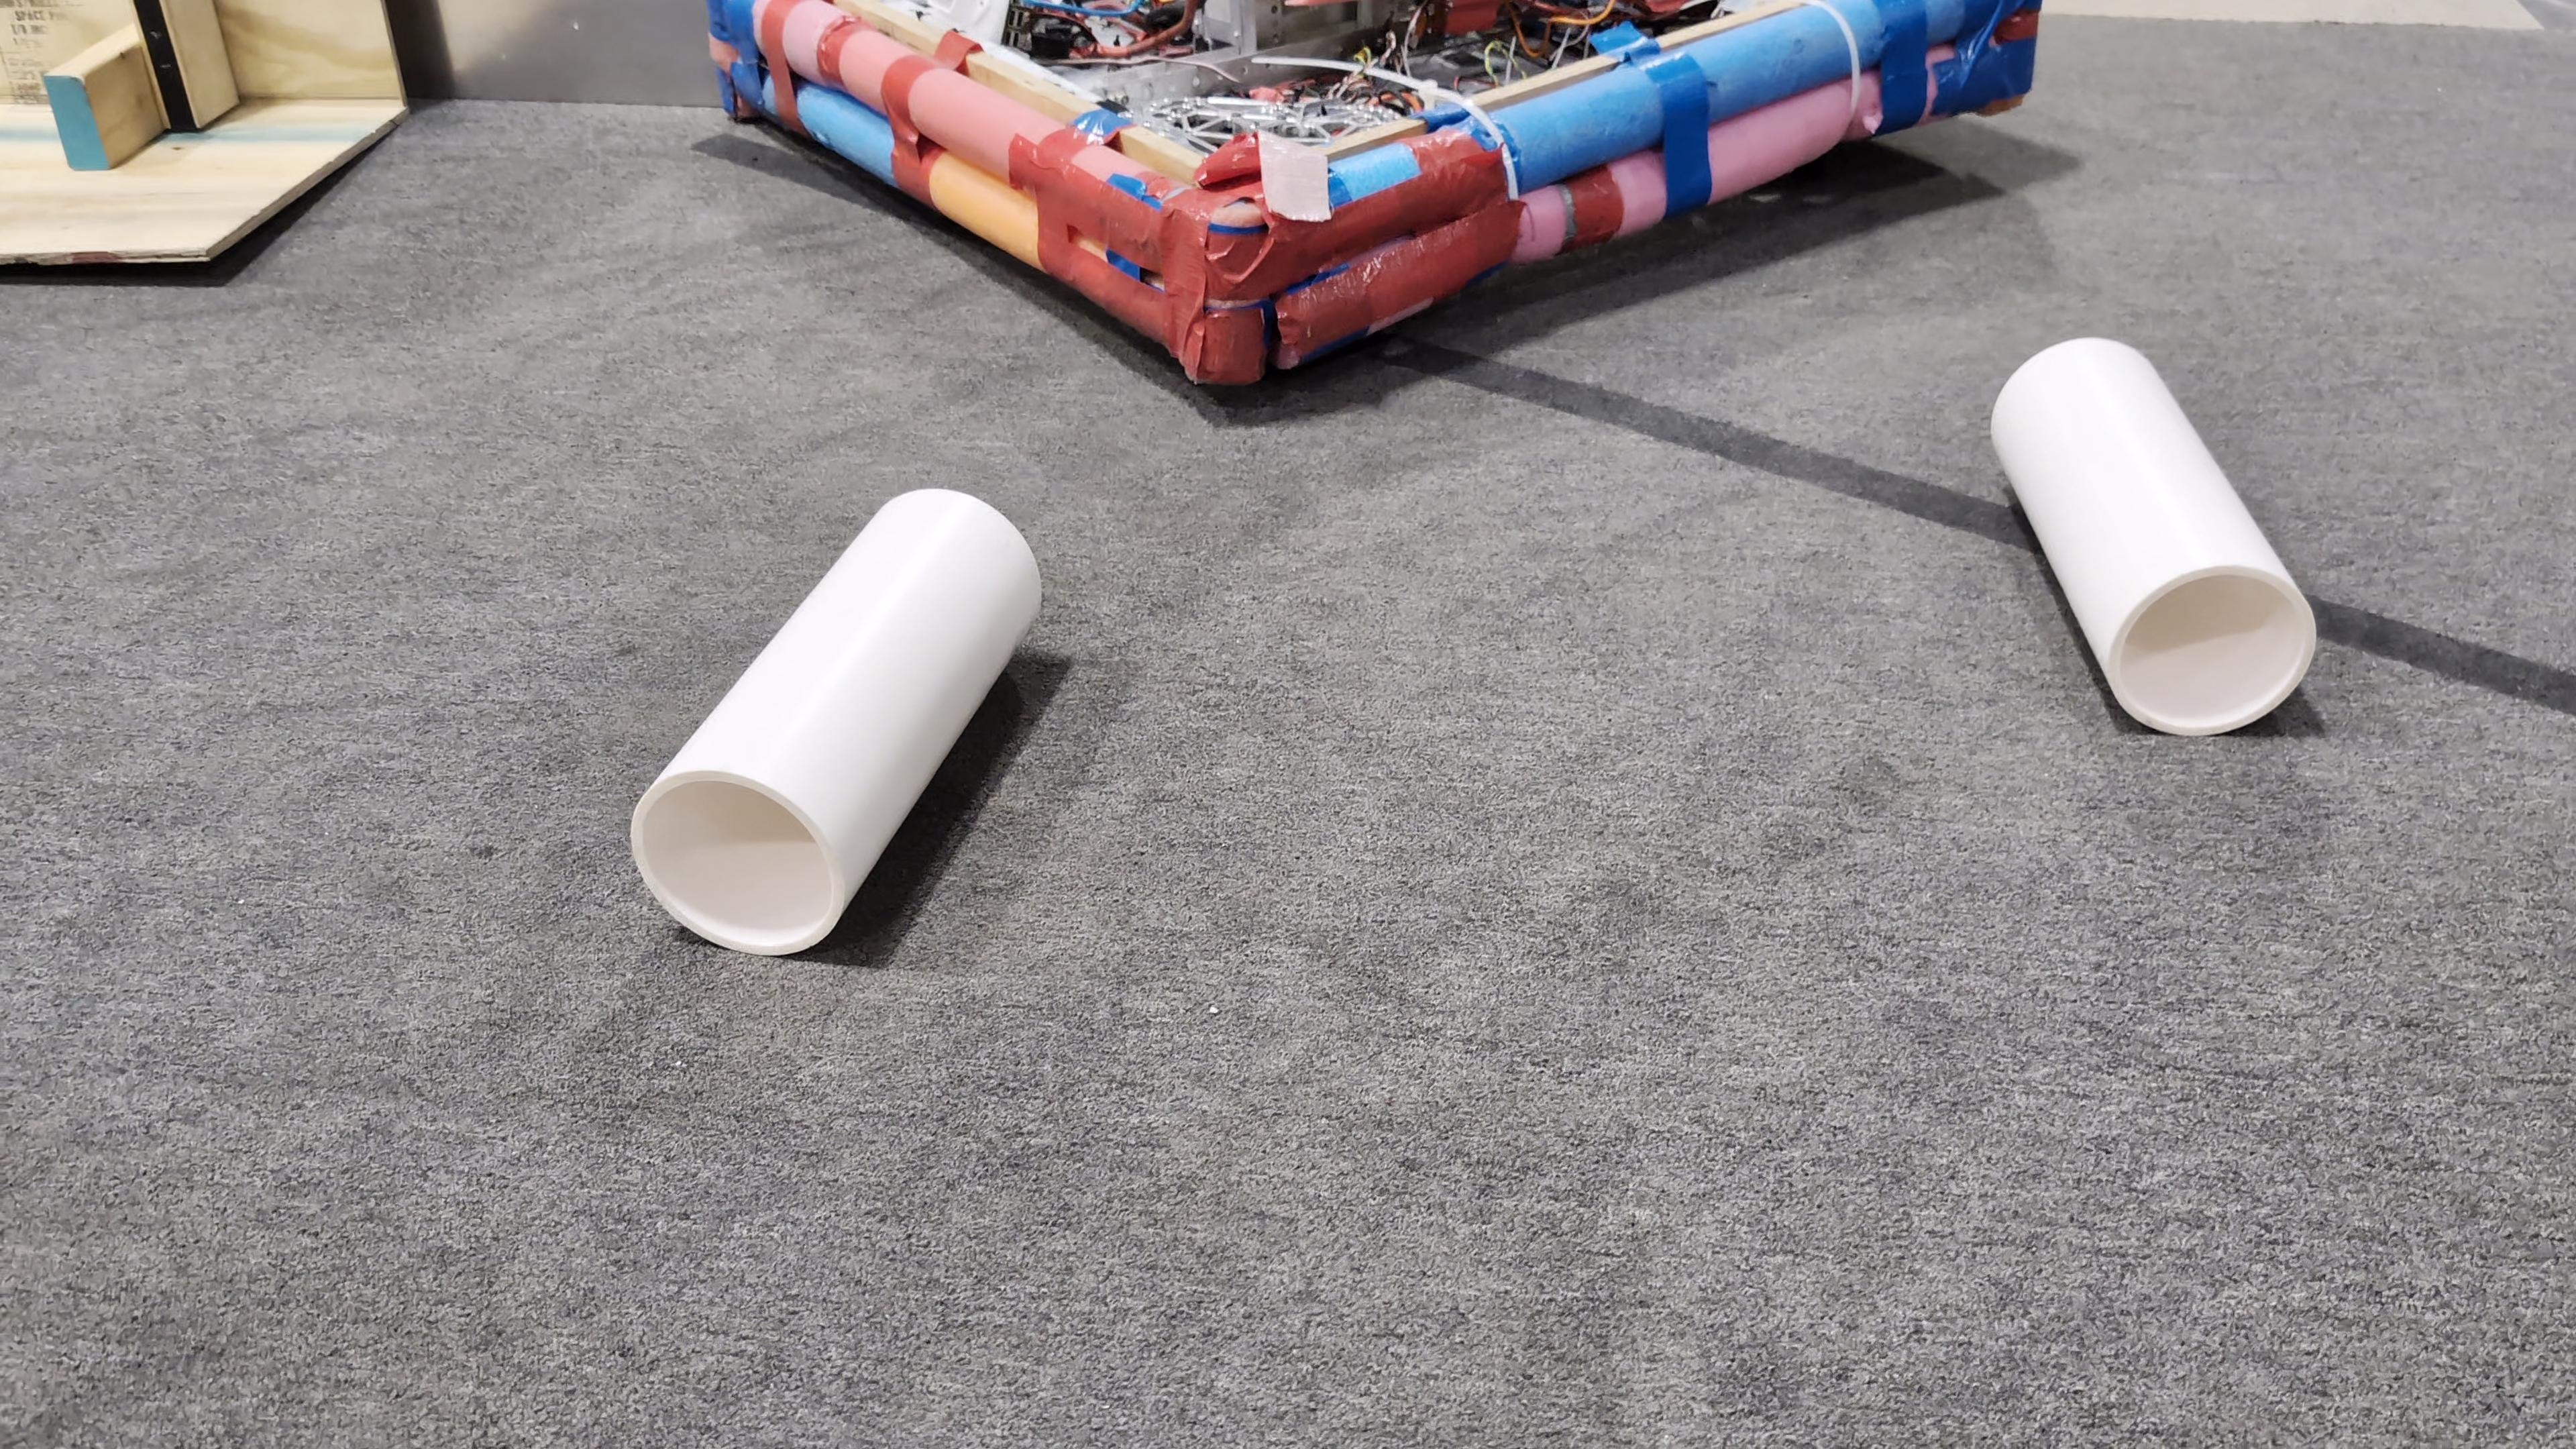coral: (631, 490, 1043, 956), (1992, 339, 2316, 735)
